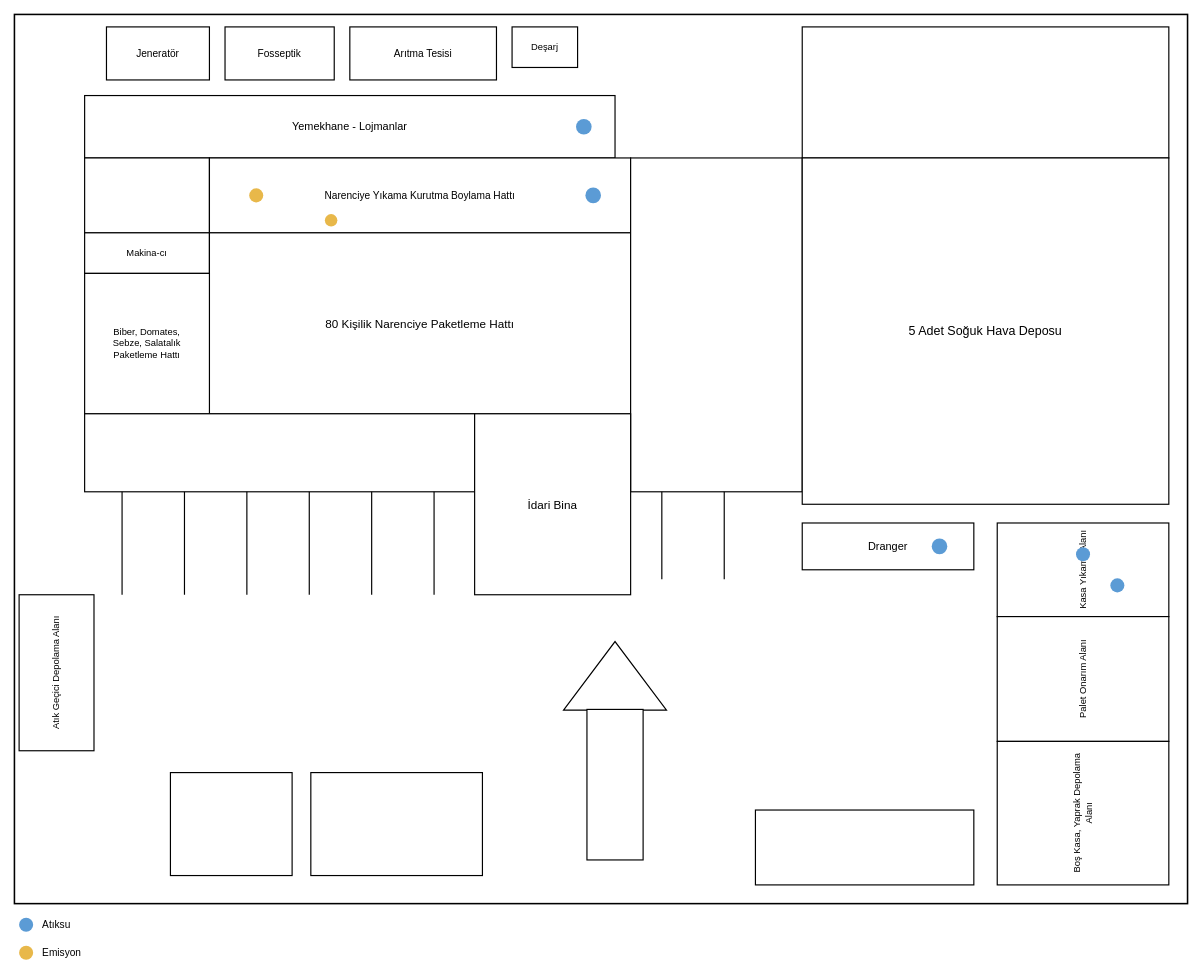
Some shapes in this 1201 by 974 pixel diagram are drawn without their labels. The centre of each missing label's shape, as x and y in pixels:
2 Adet Fileleme: the point at 147,195
3 Adet Mumlama Odası: the point at 985,92
GİRİŞ: the point at 614,784
Güvenlik - Danışma: the point at 396,824
Hammadde Kabul Stok Alanı: the point at 716,324
Kantar: the point at 864,847
Ofis: the point at 230,824
Sevkiyat Alanı: the point at 279,452
